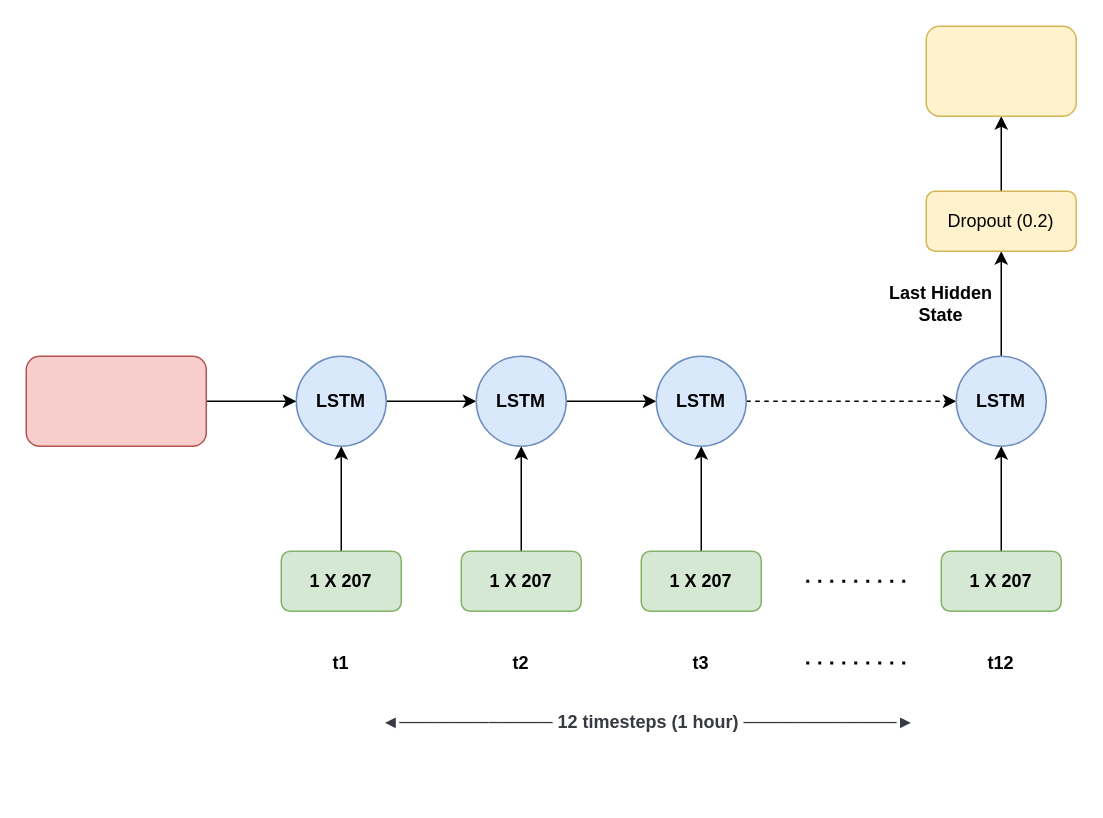
Some shapes in this 1103 by 818 pixel diagram are drawn without their labels. The shapes that lost their labels are listed below. From the top down, each one's centre as x and y in pixels, then its label:
At point 1000,70: "Output Layer (64 -> 621) 621 = 3 x 207".
At point 115,400: "Zero Tensor 1 x N x 64".
